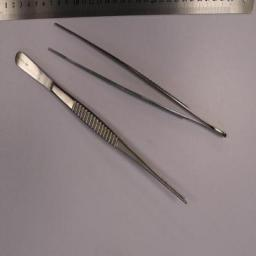DeBakey Dissector: (16, 50, 188, 204), (48, 24, 226, 138)
